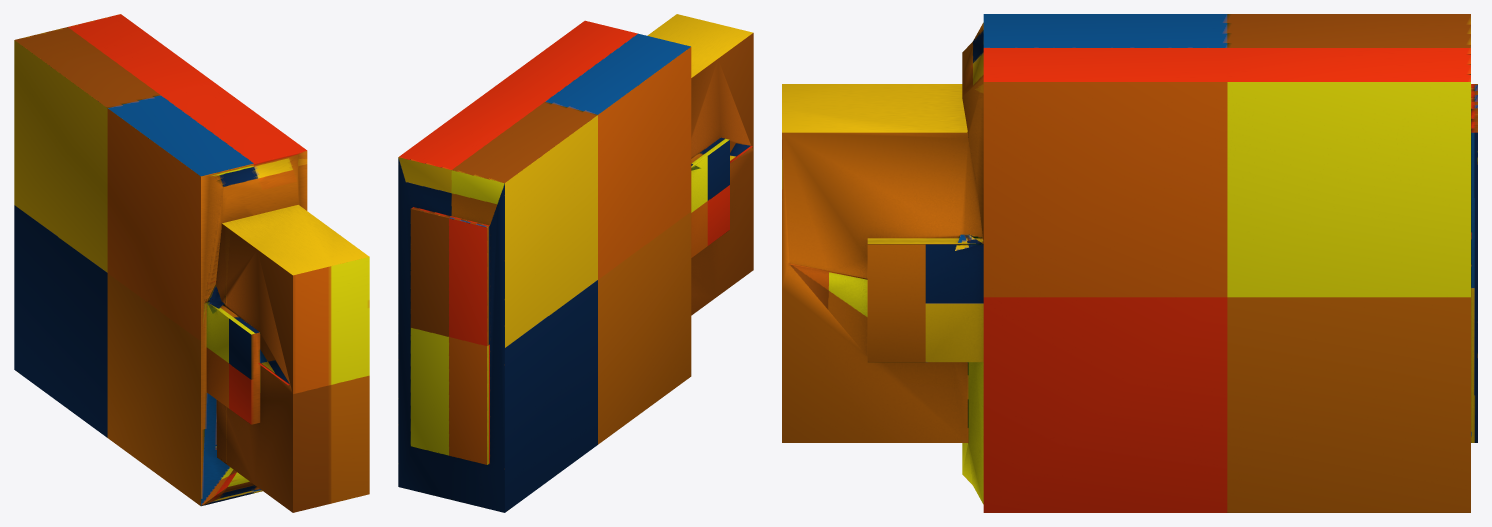
The model's file is garage-voodude-rack.glb.
3 renders of one model, left to right at view 1: azimuth 30°, elevation 25°; view 2: azimuth 150°, elevation 25°; view 3: azimuth 270°, elevation 25°, orthographic. The views are drawn at different scales.
Parts seen in each view (by area): view 1: garage-voodude-rack_export; view 2: garage-voodude-rack_export; view 3: garage-voodude-rack_export.
Boxes of the visible parts, left/top/right/bottom form: garage-voodude-rack_export: left=14, top=14, right=369, bottom=512; garage-voodude-rack_export: left=398, top=14, right=753, bottom=512; garage-voodude-rack_export: left=782, top=14, right=1477, bottom=512.
Size of the model in its own units: 0.3825 by 1.13 by 1.66.
1 material, 1 textured.
